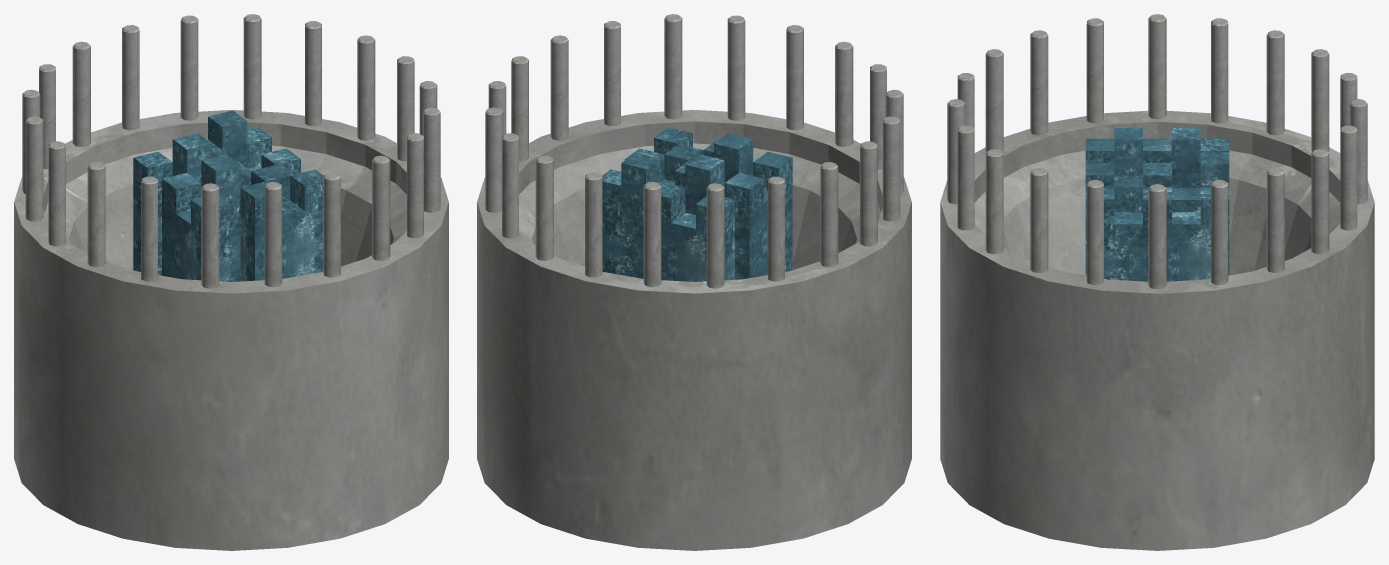
File: FuelCell_1.FBX
The picture shows the model from 3 angles, left to right: view 1: azimuth 30°, elevation 25°; view 2: azimuth 150°, elevation 25°; view 3: azimuth 270°, elevation 25°; orthographic projection.
Visible parts, largest first — view 1: Cell_Sheathe, Enriched_Fuel, Conduction_Rod_015, Conduction_Rod_010, Conduction_Rod_019, Conduction_Rod_002, Conduction_Rod_009, Conduction_Rod_020, Conduction_Rod_012, Conduction_Rod_017, Conduction_Rod_007, Conduction_Rod_001 (+10 smaller); view 2: Cell_Sheathe, Enriched_Fuel, Conduction_Rod_017, Conduction_Rod_002, Conduction_Rod_013, Conduction_Rod_003, Conduction_Rod_010, Conduction_Rod_005, Conduction_Rod_020, Conduction_Rod_012, Conduction_Rod_015, Conduction_Rod_011 (+10 smaller); view 3: Cell_Sheathe, Enriched_Fuel, Conduction_Rod_018, Conduction_Rod_014, Conduction_Rod_006, Conduction_Rod_016, Conduction_Rod_003, Conduction_Rod_009, Conduction_Rod_004, Conduction_Rod_008, Conduction_Rod_019, Conduction_Rod_013 (+10 smaller).
Part boxes in pixels (bbox=[...]): Cell_Sheathe: bbox=[14, 110, 448, 550]; Enriched_Fuel: bbox=[133, 110, 323, 281]; Conduction_Rod_015: bbox=[25, 116, 43, 221]; Conduction_Rod_010: bbox=[180, 15, 198, 120]; Conduction_Rod_019: bbox=[201, 183, 219, 288]; Conduction_Rod_002: bbox=[372, 155, 390, 260]; Conduction_Rod_009: bbox=[243, 14, 261, 119]; Conduction_Rod_020: bbox=[264, 182, 282, 287]; Conduction_Rod_012: bbox=[72, 41, 90, 146]; Conduction_Rod_017: bbox=[87, 162, 105, 267]; Conduction_Rod_007: bbox=[357, 35, 375, 140]; Conduction_Rod_001: bbox=[323, 172, 340, 277]; Cell_Sheathe: bbox=[477, 110, 911, 550]; Enriched_Fuel: bbox=[602, 127, 792, 281]; Conduction_Rod_017: bbox=[882, 116, 900, 221]; Conduction_Rod_002: bbox=[727, 15, 745, 120]; Conduction_Rod_013: bbox=[706, 183, 724, 288]; Conduction_Rod_003: bbox=[664, 14, 682, 119]; Conduction_Rod_010: bbox=[535, 155, 553, 260]; Conduction_Rod_005: bbox=[550, 35, 568, 140]; Conduction_Rod_020: bbox=[835, 41, 853, 146]; Conduction_Rod_012: bbox=[643, 182, 661, 287]; Conduction_Rod_015: bbox=[820, 162, 838, 267]; Conduction_Rod_011: bbox=[585, 172, 602, 277]; Cell_Sheathe: bbox=[940, 110, 1374, 550]; Enriched_Fuel: bbox=[1085, 128, 1229, 281]; Conduction_Rod_018: bbox=[1030, 30, 1048, 135]; Conduction_Rod_014: bbox=[1266, 30, 1284, 135]; Conduction_Rod_006: bbox=[1148, 184, 1166, 289]; Conduction_Rod_016: bbox=[1148, 14, 1166, 119]; Conduction_Rod_003: bbox=[985, 149, 1003, 254]; Conduction_Rod_009: bbox=[1311, 149, 1329, 254]; Conduction_Rod_004: bbox=[1030, 168, 1048, 272]; Conduction_Rod_008: bbox=[1266, 168, 1284, 272]; Conduction_Rod_019: bbox=[985, 49, 1003, 151]; Conduction_Rod_013: bbox=[1311, 49, 1329, 151].
Size of the model in its own units: 12 by 10.88 by 12.
